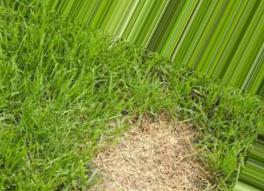patch: (104, 149, 180, 180), (129, 119, 190, 144), (120, 183, 149, 191)
